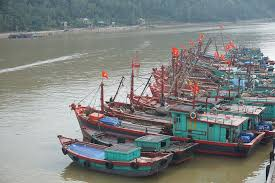tau_dansu: (78, 98, 264, 158), (58, 132, 175, 175), (107, 95, 171, 125)
